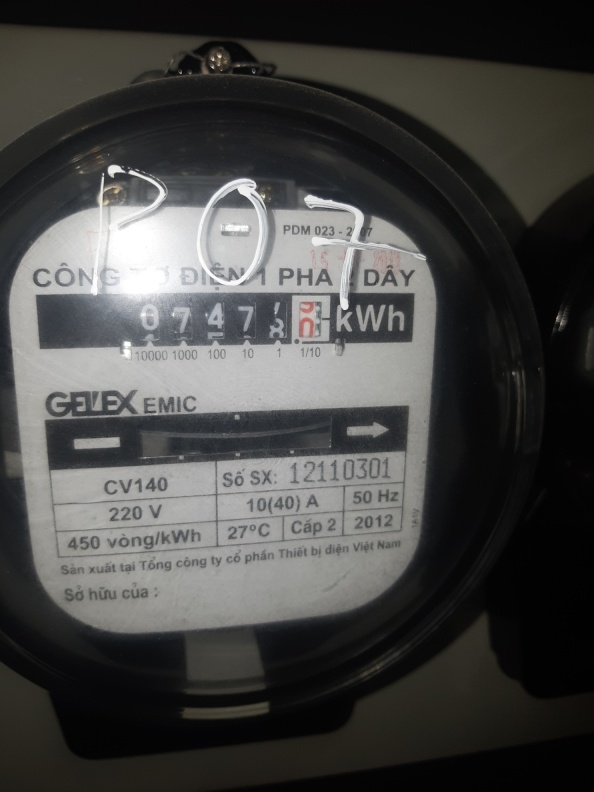counter: (31, 292, 419, 344)
electricity_meter: (3, 74, 525, 691)
